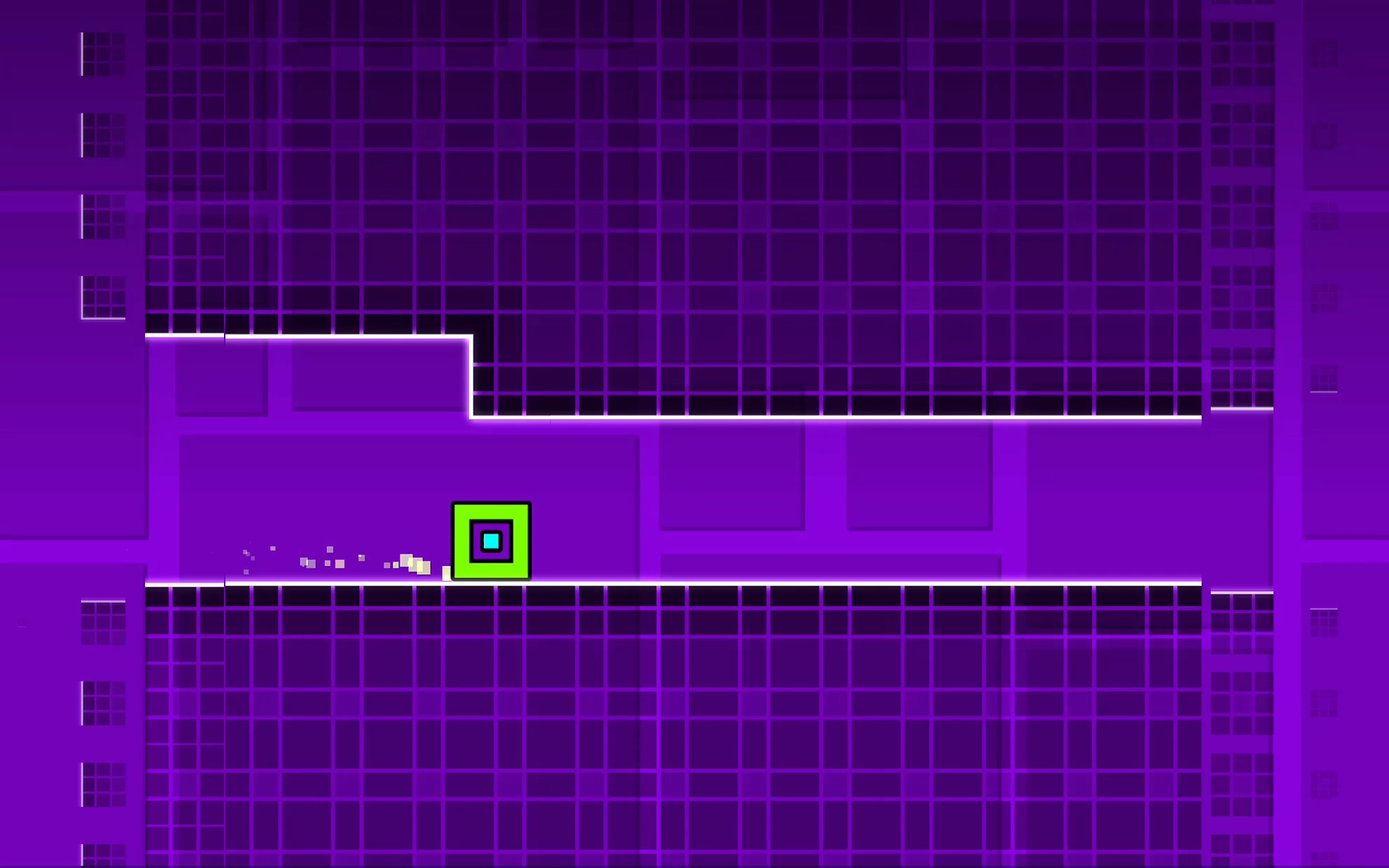Block2: (90, 0, 1308, 333), (142, 574, 1299, 849), (472, 338, 1322, 419)
Player: (452, 499, 533, 577)
